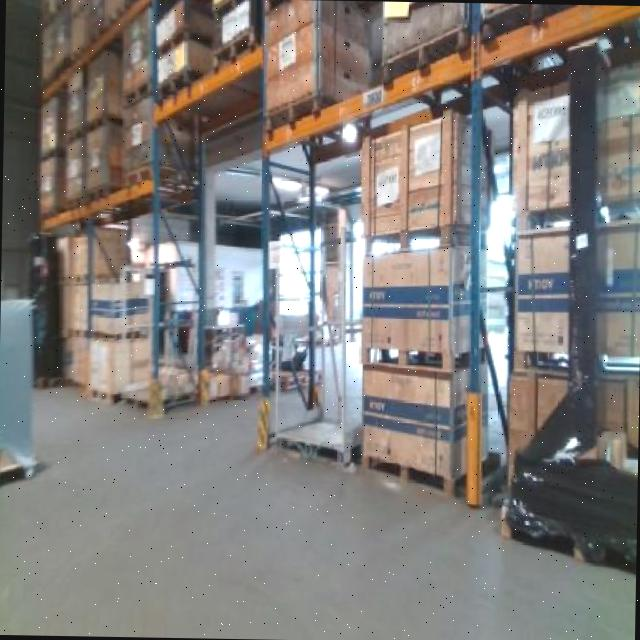pallet: (369, 16, 484, 94), (353, 442, 469, 506), (360, 217, 480, 266), (350, 336, 476, 378)
